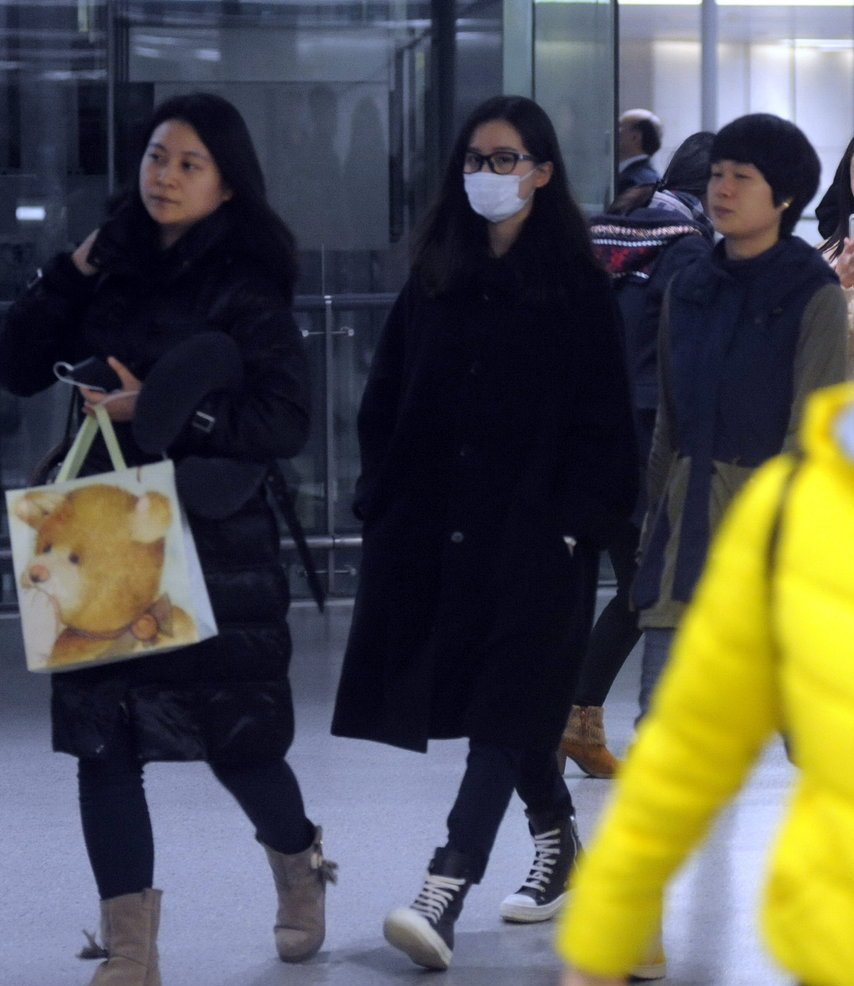face: (140, 120, 218, 225), (707, 152, 772, 235)
face_mask: (464, 125, 531, 217)
